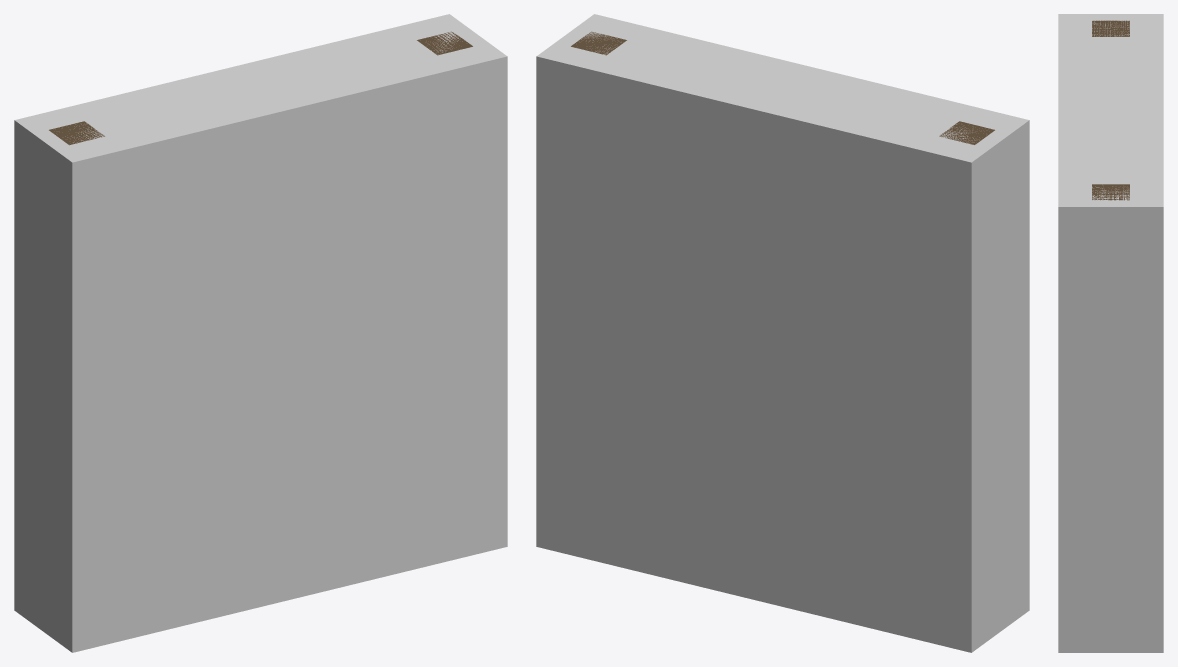
Rendered from gate_picket_closed.glb.
The picture shows the model from 3 angles, left to right: view 1: azimuth 30°, elevation 25°; view 2: azimuth 150°, elevation 25°; view 3: azimuth 270°, elevation 25°; orthographic projection. The views are drawn at different scales.
Parts seen in each view (by area): view 1: gate_picket_closed-col, post, post.001; view 2: gate_picket_closed-col, post, post.001; view 3: gate_picket_closed-col, post, post.001.
Part boxes in pixels (x1=…): gate_picket_closed-col: x1=14, y1=14, x2=507, y2=652; post: x1=49, y1=121, x2=104, y2=145; post.001: x1=417, y1=31, x2=472, y2=55; gate_picket_closed-col: x1=536, y1=14, x2=1029, y2=652; post: x1=939, y1=121, x2=994, y2=144; post.001: x1=571, y1=31, x2=626, y2=55; gate_picket_closed-col: x1=1058, y1=14, x2=1163, y2=652; post: x1=1092, y1=20, x2=1129, y2=36; post.001: x1=1092, y1=184, x2=1129, y2=200.
Bounding box in the file's own units: 1.3 × 1.4 × 0.3.
